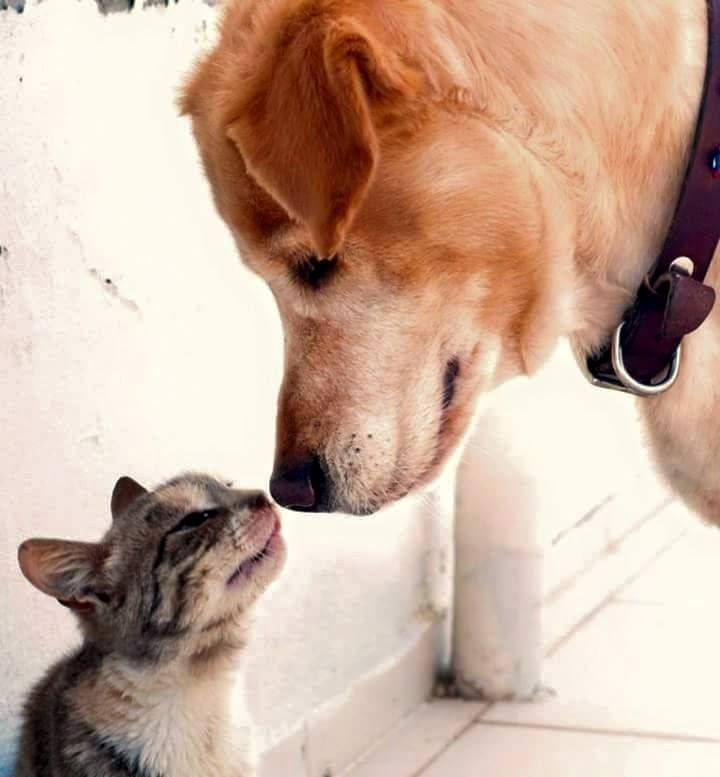kedo: (23, 467, 282, 777)
